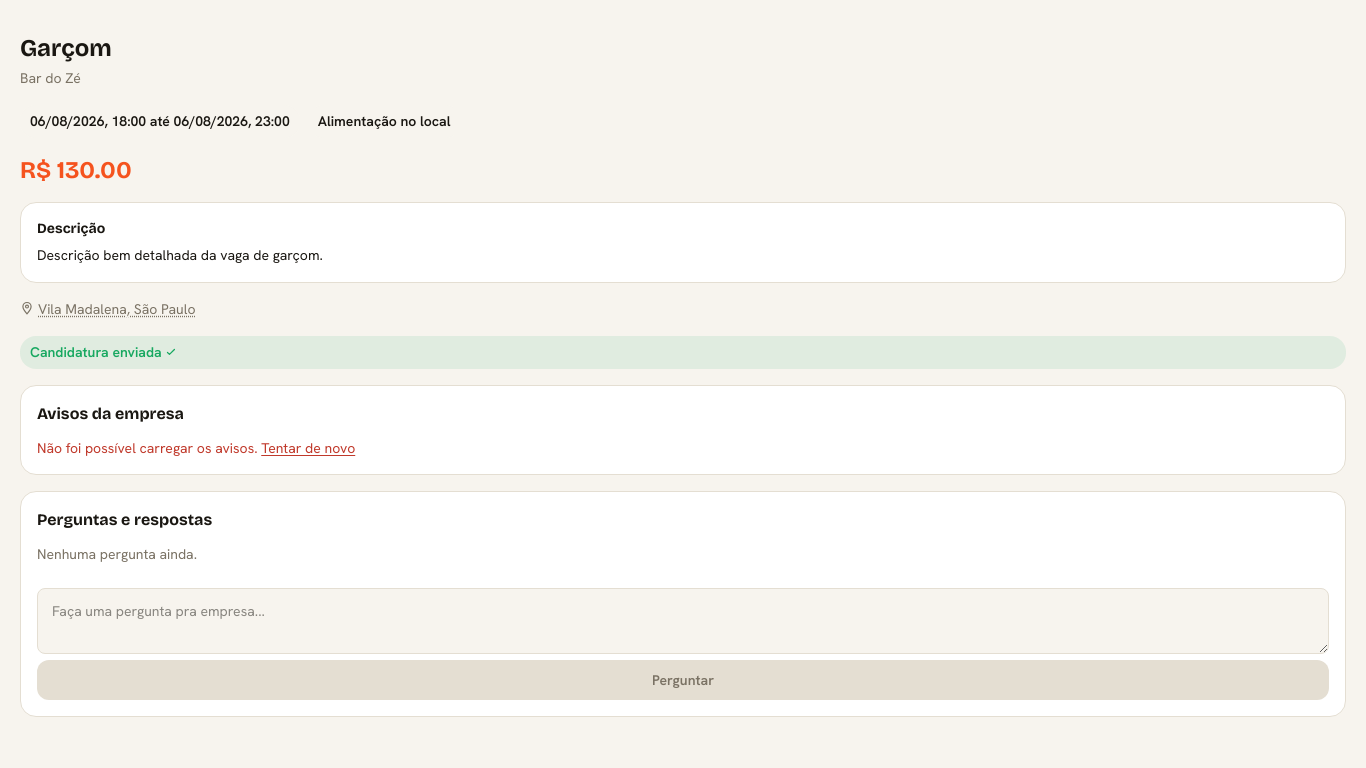
Test: VagaDetalhePage › mostra erro (não "nenhum aviso") quando a busca de avisos falha, e permite tentar de novo
Expected: the text "Não foi possível carregar os avisos." is shown, [37,439,258,457]
Expected: the text "Nenhum aviso ainda." is not shown
Click the button "Tentar de novo" at [308, 448], box [261,438,355,458]
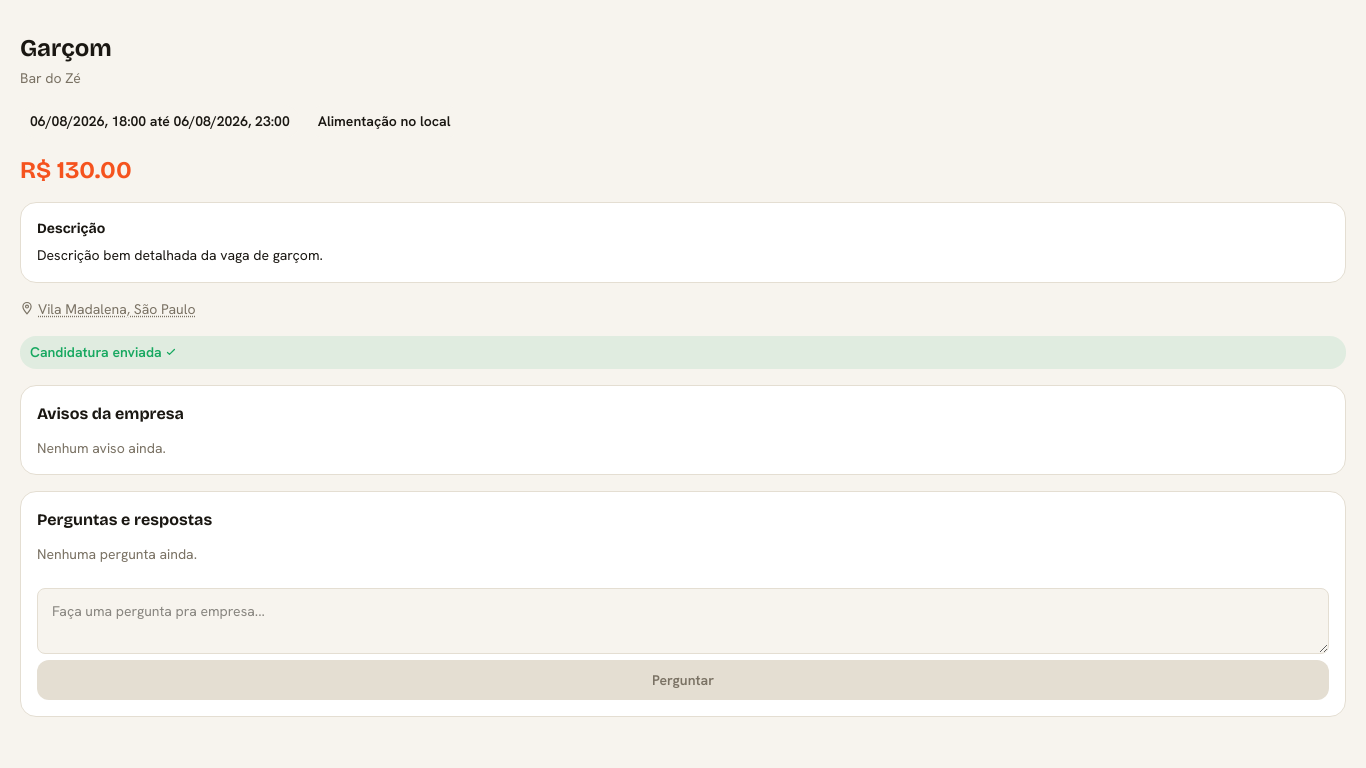
Now the text "Nenhum aviso ainda." is shown, box [37,439,166,457]
